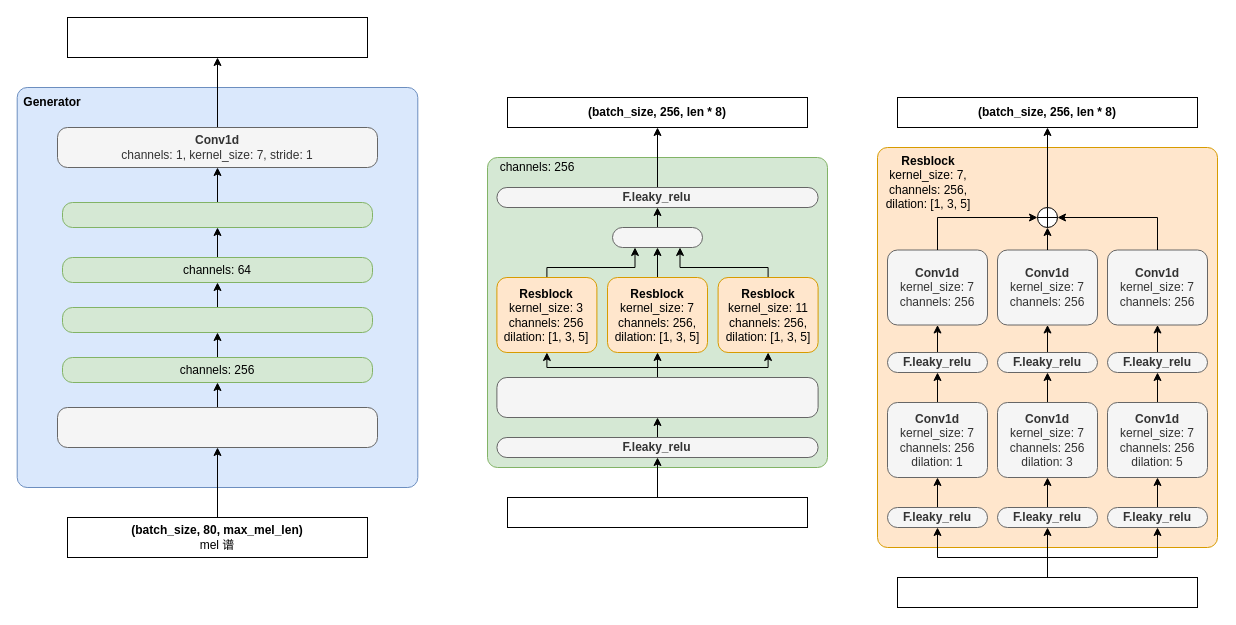
The diagram is 1236 pixels wide and 625 high, and some of its shapes have lost their labels. Each missing label, with the box of its shape:
(batch_size, 1, 256 * max_mel_len ) wav: (66, 16, 368, 58)
(batch_size, 512 , len * 8): (896, 576, 1198, 608)
(batch_size, 512 , len): (506, 496, 808, 528)
channels: 128: (62, 306, 372, 332)
channels: 32: (62, 202, 372, 228)
Conv1d channels: 512, kernel_size: 7, stride: 1: (56, 406, 378, 448)
ConvTranspose1d channels: 256, kernel_size: 16, stride: 8: (496, 376, 818, 418)
mean: (612, 226, 702, 248)
